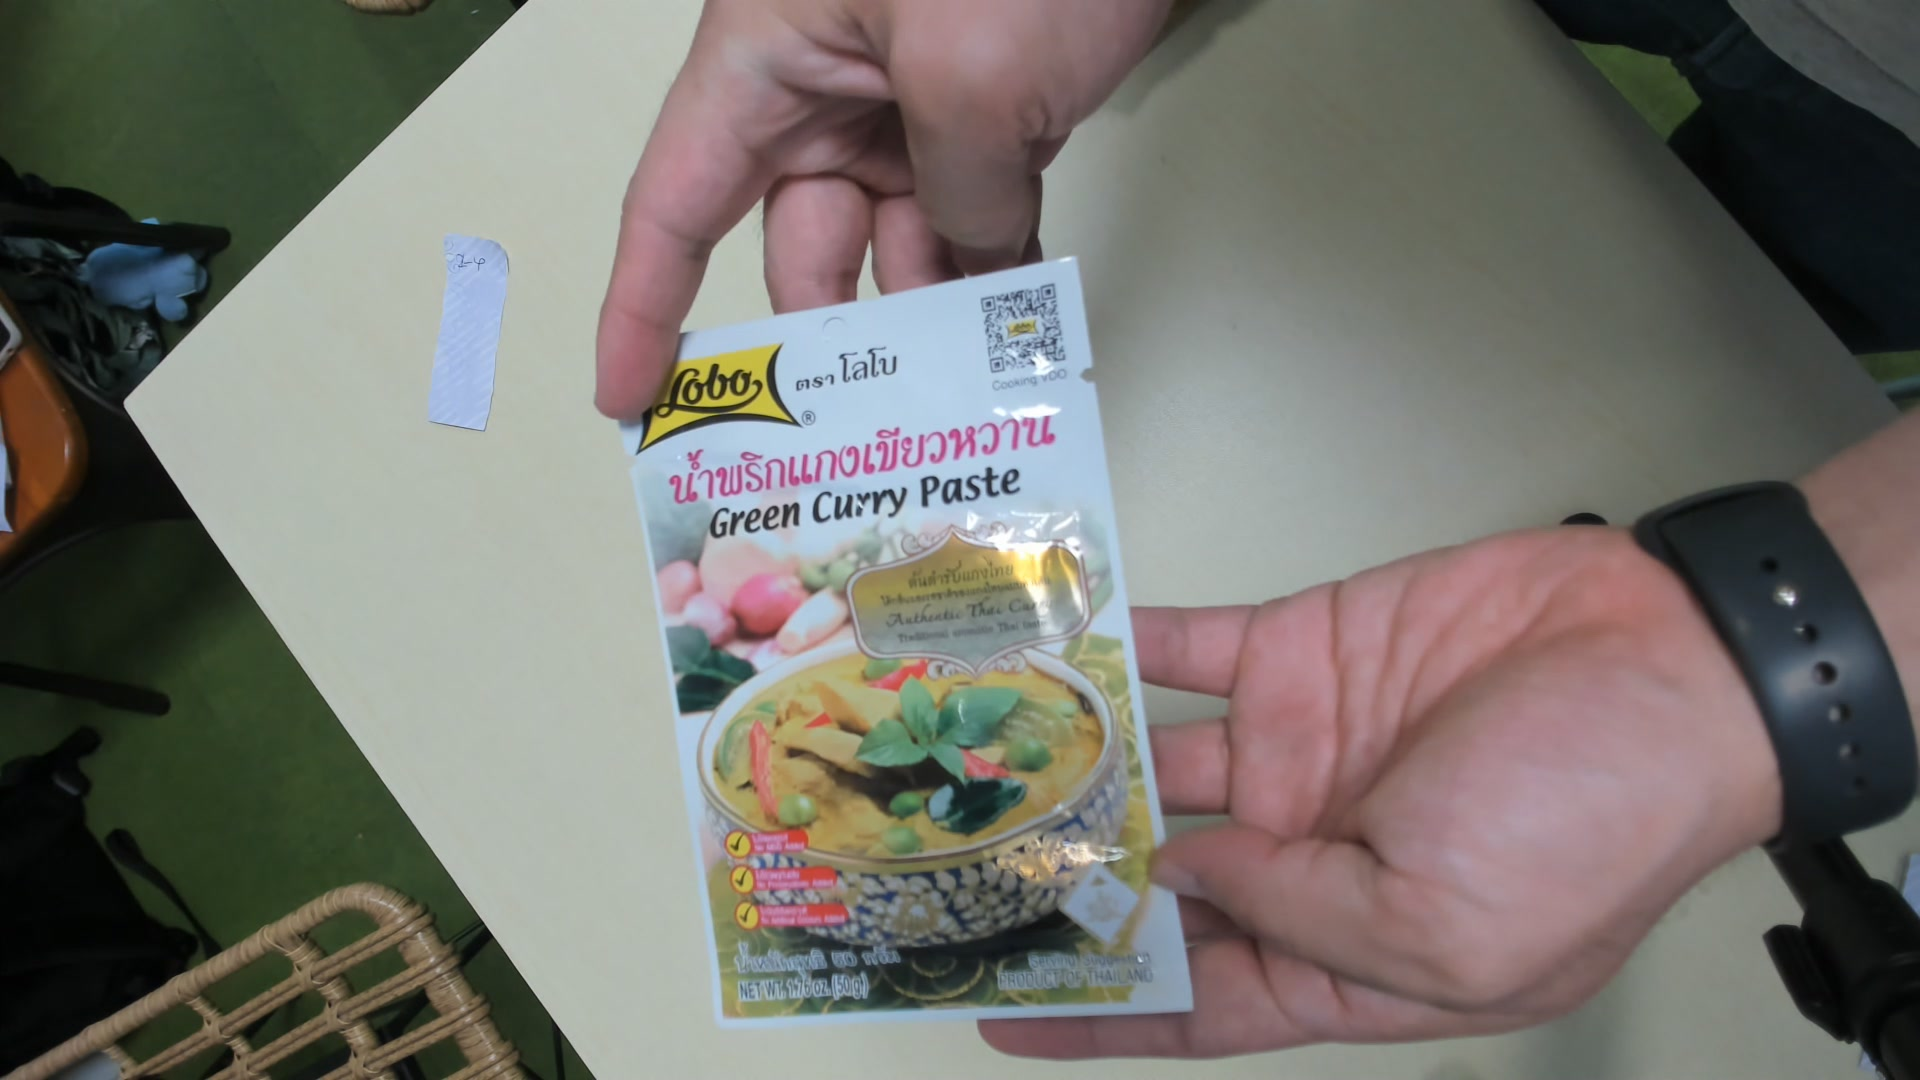OtherSauceDressing_0-99g_Halal_NonHealthy: (622, 256, 1196, 1026)
